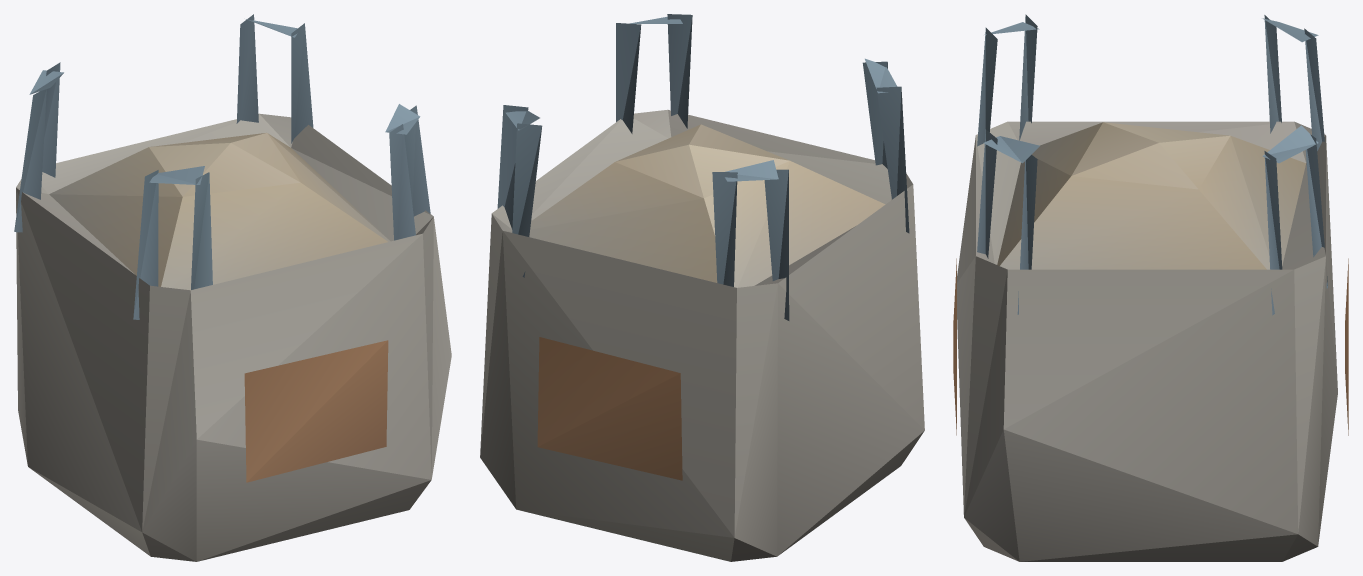
File: bag.lod1.glb
3 views of the same model, side by side, from view 1: azimuth 30°, elevation 25°; view 2: azimuth 150°, elevation 25°; view 3: azimuth 270°, elevation 25° (orthographic). The views are drawn at different scales.
Size of the model in its own units: 0.96 by 1.14 by 0.994.
